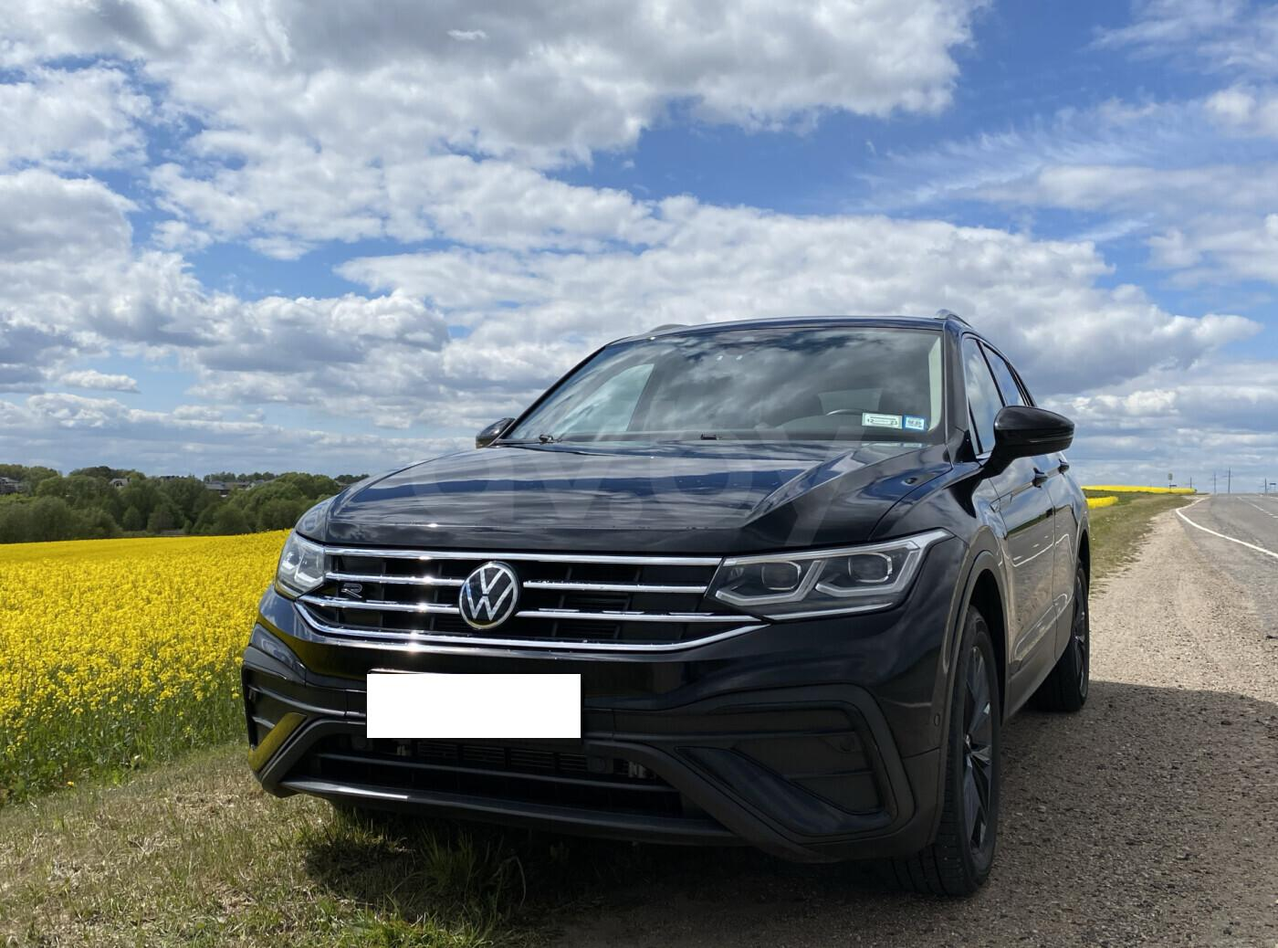Tiguan_2020-2024: (227, 309, 1097, 895)
